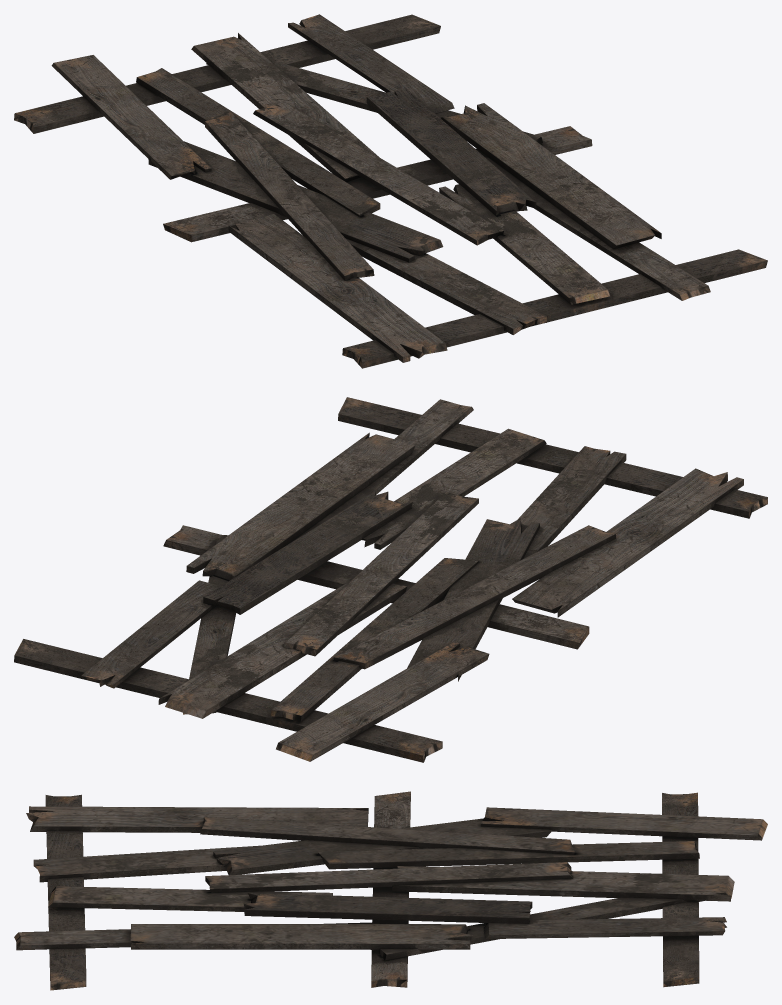
The model's file is SM_WoodBoards_2x3_01.glb.
The picture shows the model from 3 angles, top to bottom: view 1: azimuth 30°, elevation 25°; view 2: azimuth 150°, elevation 25°; view 3: azimuth 270°, elevation 25°; orthographic projection. The views are drawn at different scales.
Parts seen in each view (by area): view 1: SM_WoodBoards_2x3_01; view 2: SM_WoodBoards_2x3_01; view 3: SM_WoodBoards_2x3_01.
Boxes of the visible parts, x1,y1,x2,y2 form: SM_WoodBoards_2x3_01: [14, 14, 767, 368]; SM_WoodBoards_2x3_01: [14, 397, 767, 762]; SM_WoodBoards_2x3_01: [14, 791, 767, 990].
Bounding box in the file's own units: 2.07 × 0.1127 × 3.41.
Materials: 1 (1 with a texture image).
